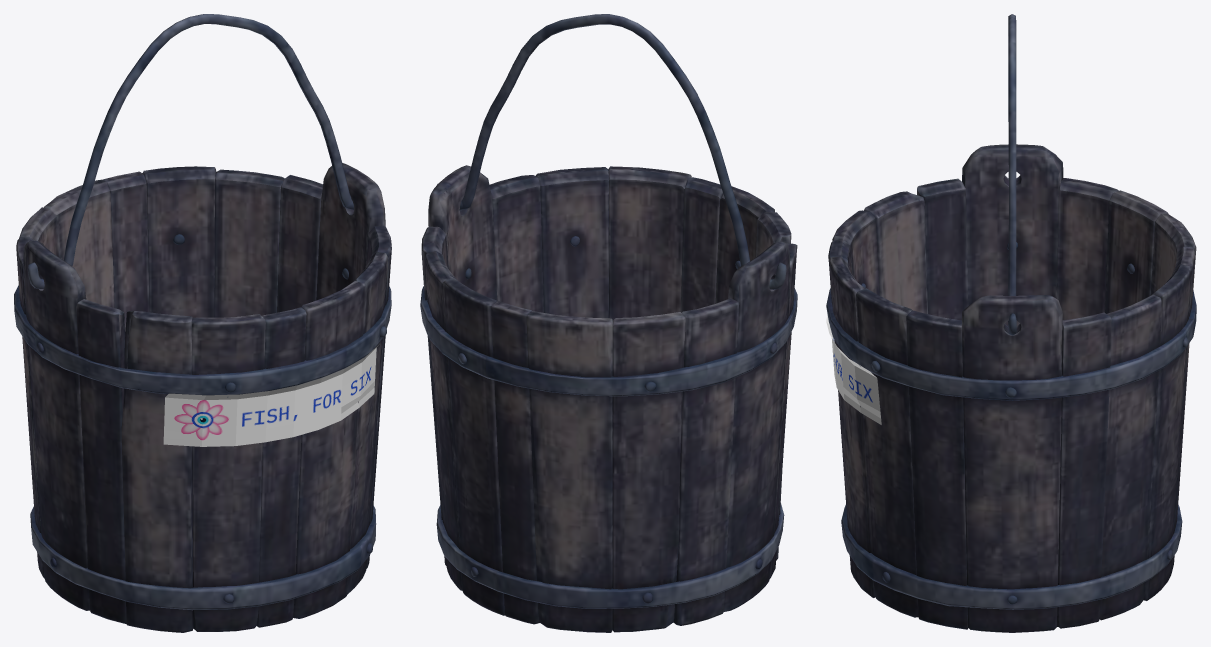
The model's file is nyb_penguins_bucket.glb.
3 renders of one model, left to right at view 1: azimuth 30°, elevation 25°; view 2: azimuth 150°, elevation 25°; view 3: azimuth 270°, elevation 25°, orthographic.
Visible parts, largest first — view 1: wooden_bucket_01, stk_lbl_08b0b6b2bd.png; view 2: wooden_bucket_01; view 3: wooden_bucket_01, stk_lbl_08b0b6b2bd.png.
Part boxes in pixels (x1,y1,x2,y2): wooden_bucket_01: (14,14,391,632); stk_lbl_08b0b6b2bd.png: (163,344,379,446); wooden_bucket_01: (420,14,797,632); wooden_bucket_01: (826,14,1196,632); stk_lbl_08b0b6b2bd.png: (826,314,881,424).
Size of the model in its own units: 0.367 by 0.5499 by 0.3422.
Materials: 2 (2 with a texture image).
